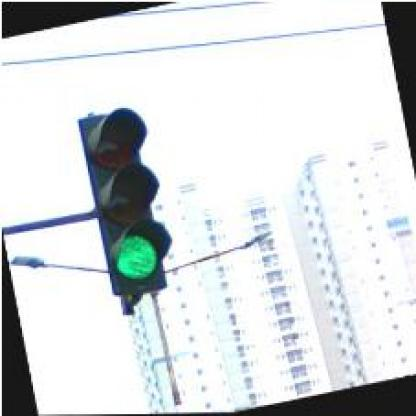green: (74, 101, 179, 299)
